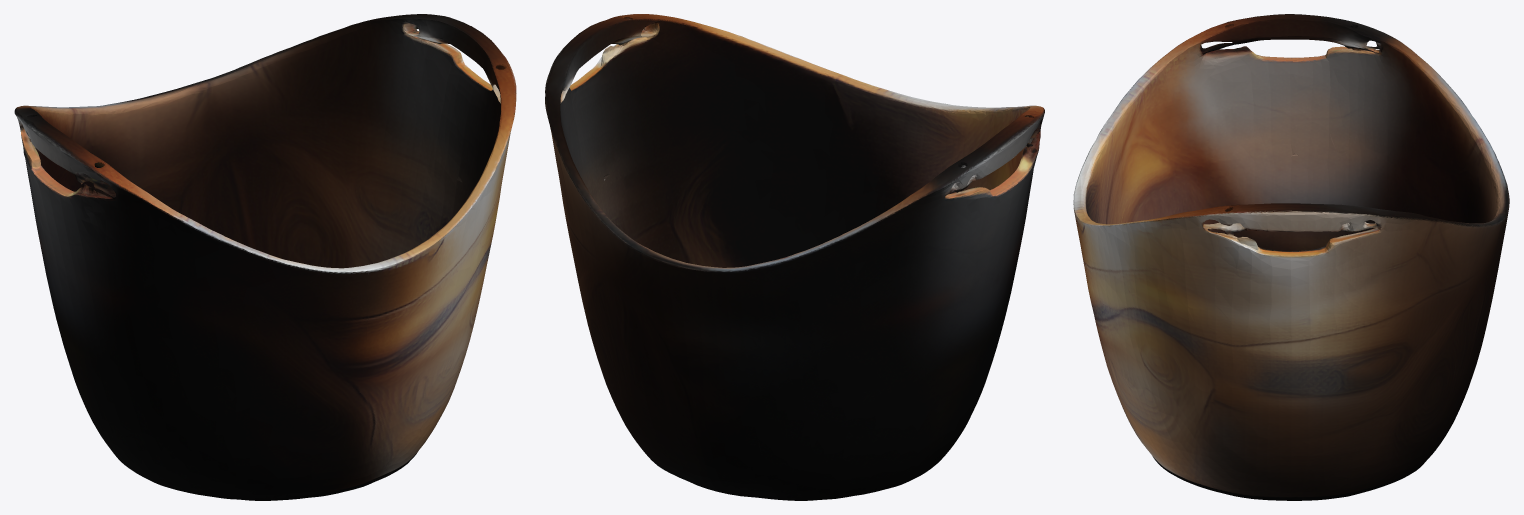
File: wooden-laundry-basket-futuristic.jpeg.glb
3 renders of one model, left to right at view 1: azimuth 30°, elevation 25°; view 2: azimuth 150°, elevation 25°; view 3: azimuth 270°, elevation 25°, orthographic. The views are drawn at different scales.
Parts seen in each view (by area): view 1: world; view 2: world; view 3: world.
Part boxes in pixels (bbox=[...]): world: bbox=[14, 14, 516, 500]; world: bbox=[545, 14, 1044, 500]; world: bbox=[1073, 14, 1509, 500].
Bounding box in the file's own units: 1 × 0.7702 × 0.927.
Materials: 1 (1 with a texture image).
